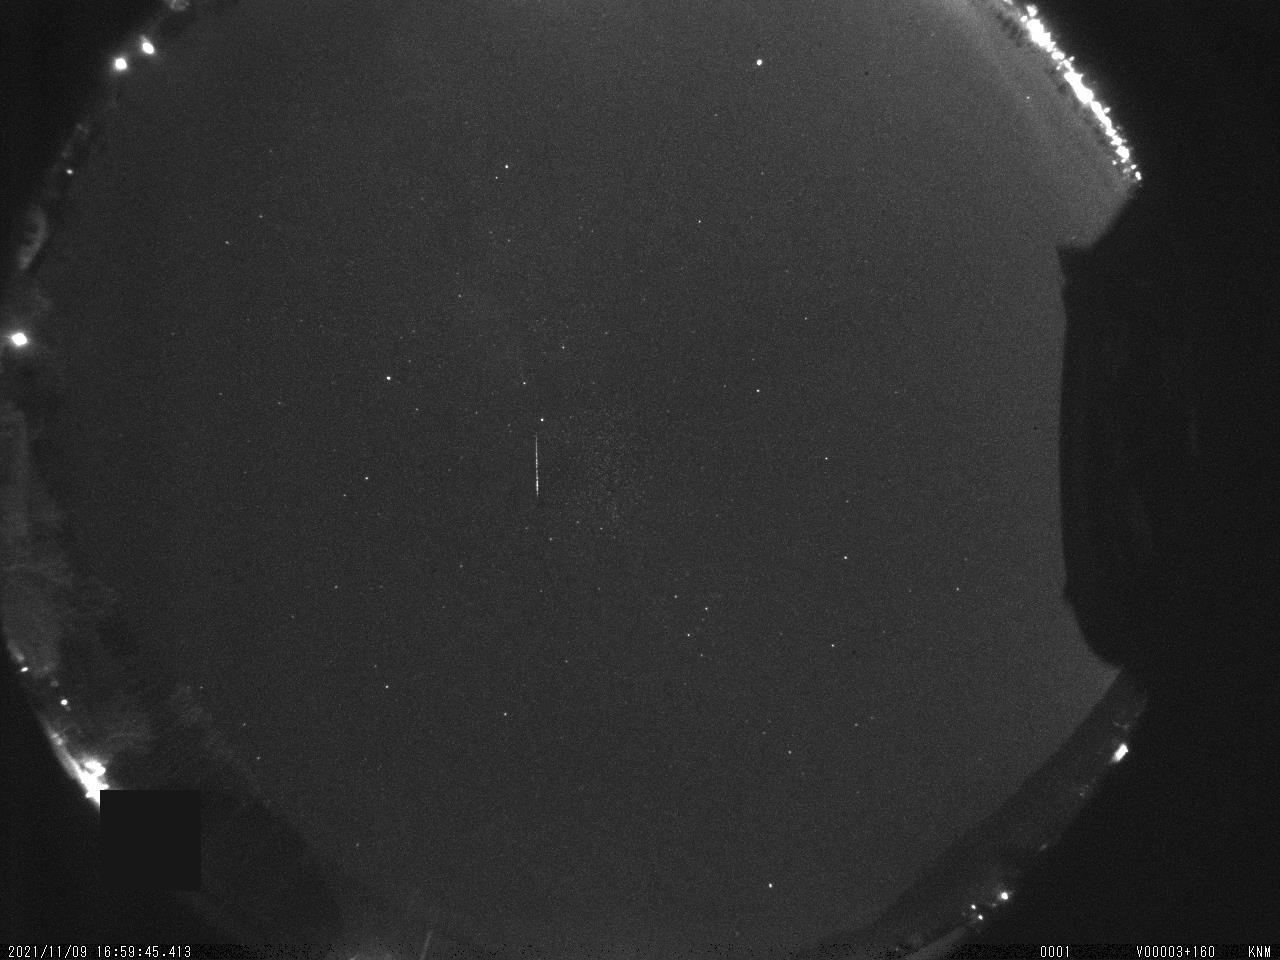meteor: (528, 423, 549, 507)
